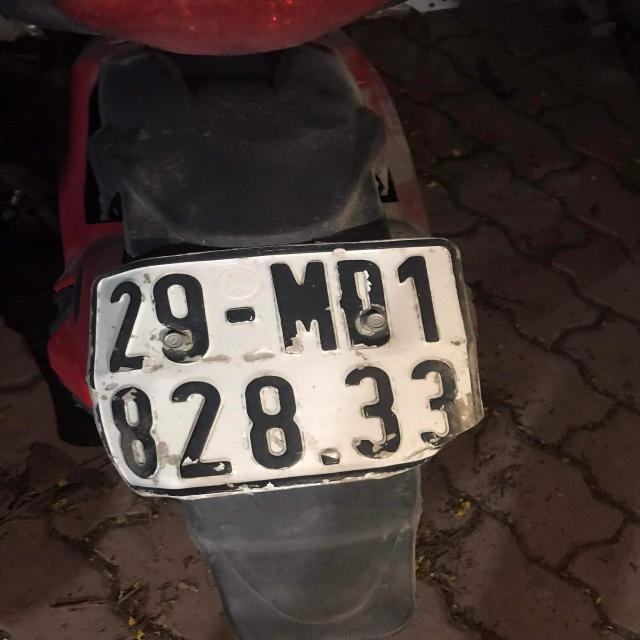1: (395, 254, 445, 345)
2: (165, 378, 238, 478), (99, 274, 146, 370)
3: (341, 364, 404, 460), (408, 356, 458, 448)
8: (241, 372, 307, 471), (106, 382, 162, 483)
9: (151, 270, 214, 364)
U: (266, 253, 337, 355)
